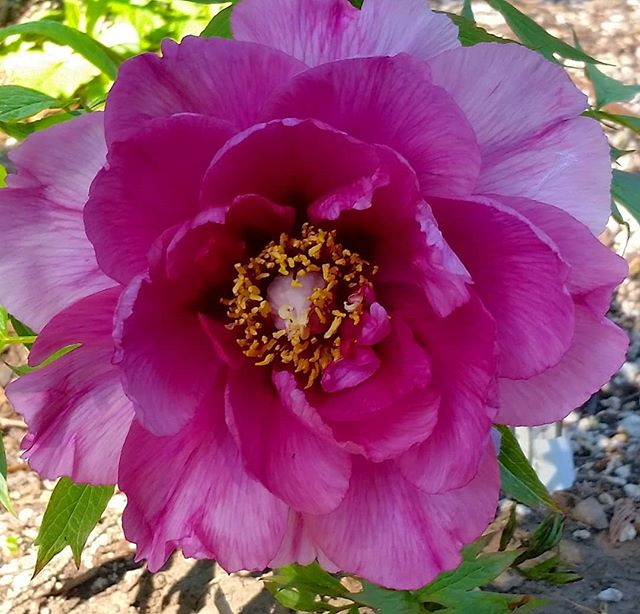flowers: (1, 1, 617, 572)
